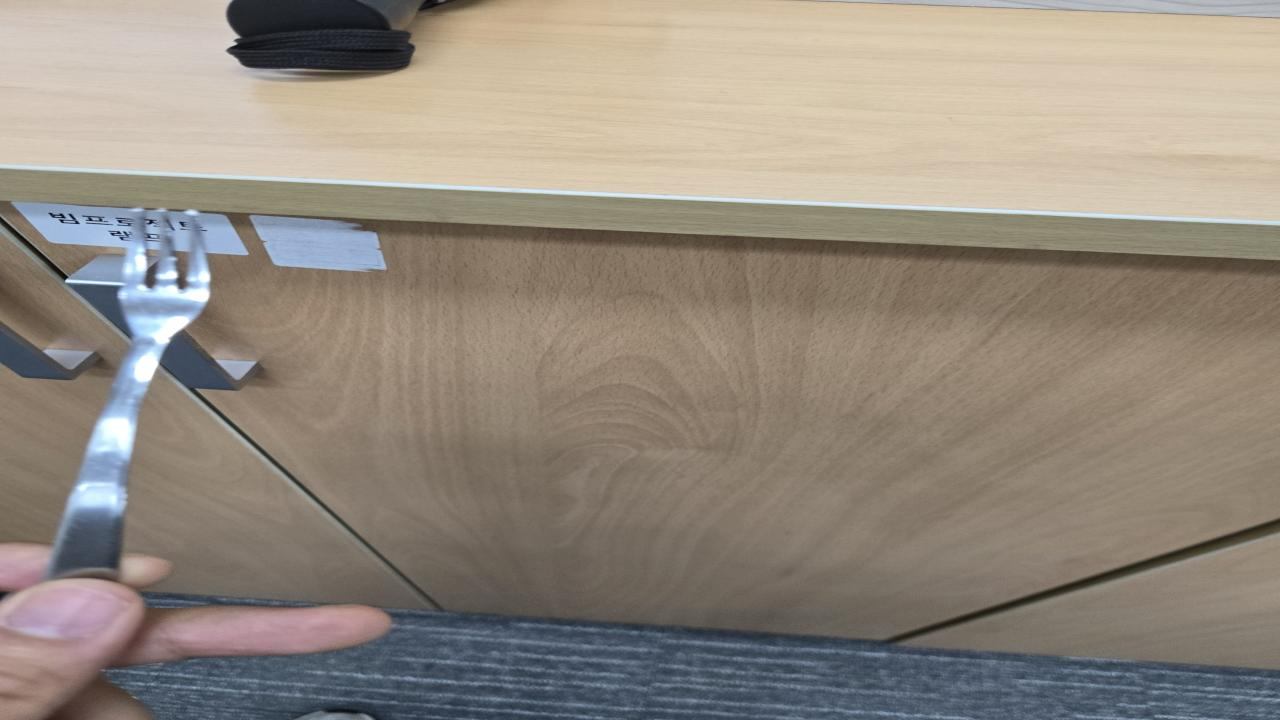fork: (42, 208, 220, 578)
